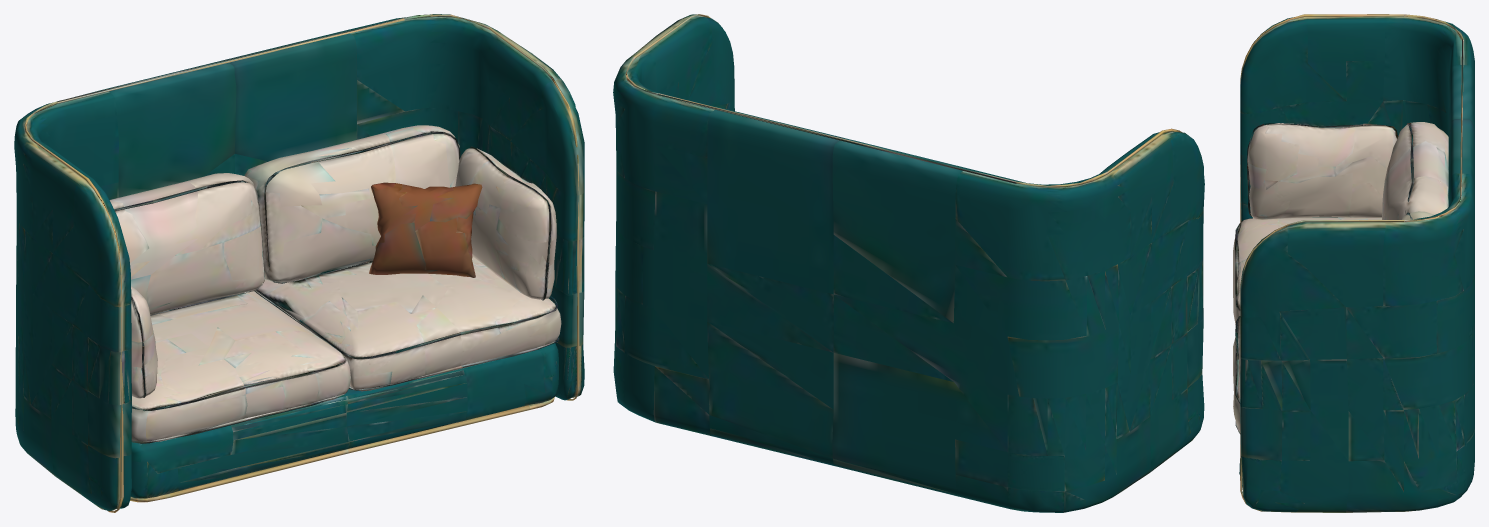
Rendered from chair_acoustic_teal.glb.
3 views of the same model, side by side, from view 1: azimuth 30°, elevation 25°; view 2: azimuth 150°, elevation 25°; view 3: azimuth 270°, elevation 25° (orthographic). The views are drawn at different scales.
Visible parts, largest first — view 1: prop; view 2: prop; view 3: prop.
Boxes of the visible parts, bbox=[...] form: prop: bbox=[14, 14, 584, 512]; prop: bbox=[613, 14, 1204, 512]; prop: bbox=[1233, 14, 1474, 512].
Bounding box in the file's own units: 1.9 × 1.2 × 0.896.
Materials: 1 (1 with a texture image).
